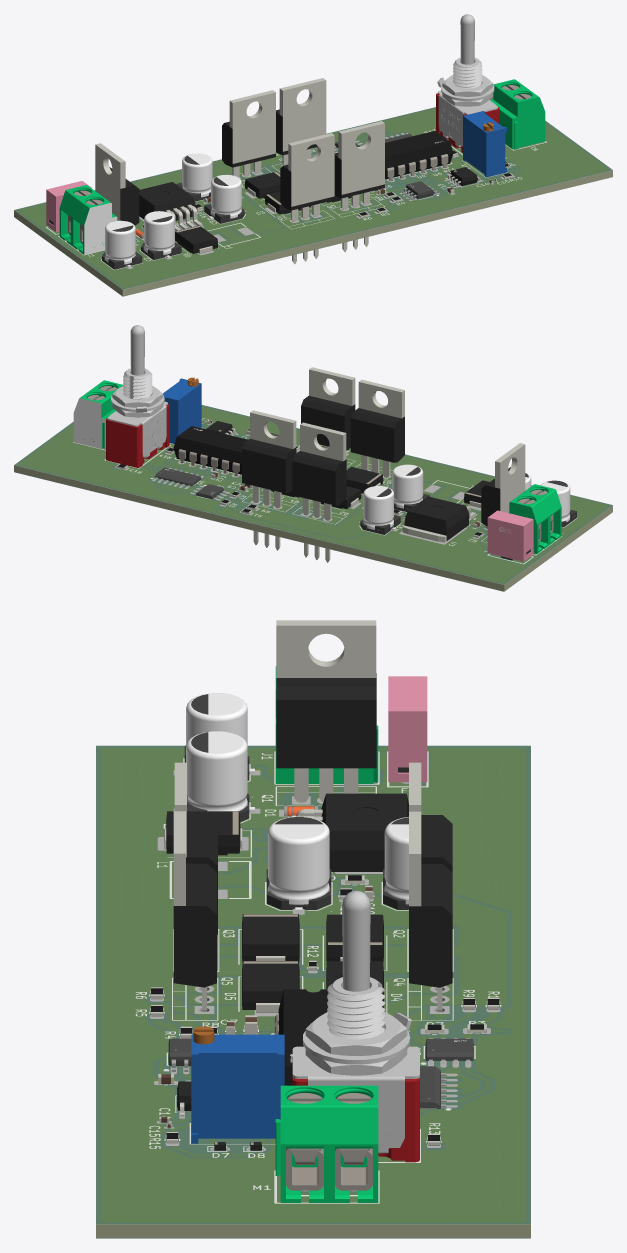
File: RS36512VDCDriver_RevA.glb
3 views of the same model, one above another, from view 1: azimuth 30°, elevation 25°; view 2: azimuth 150°, elevation 25°; view 3: azimuth 270°, elevation 25° (orthographic). The views are drawn at different scales.
Parts seen in each view (by area): view 1: =>[0:1:1:56], =>[0:1:1:9] (×5), =>[0:1:1:52], =>[0:1:1:58], =>[0:1:1:17] (×4), =>[0:1:1:15] (×2), =>[0:1:1:46], =>[0:1:1:42], =>[0:1:1:29], =>[0:1:1:33], =>[0:1:1:11] (×2), =>[0:1:1:55] (+6 smaller); view 2: =>[0:1:1:56], =>[0:1:1:9] (×5), =>[0:1:1:52], =>[0:1:1:58], =>[0:1:1:46], =>[0:1:1:15] (×2), =>[0:1:1:17] (×3), =>[0:1:1:42], =>[0:1:1:33], =>[0:1:1:21], =>[0:1:1:29], =>[0:1:1:55] (+5 smaller); view 3: =>[0:1:1:56], =>[0:1:1:52], =>[0:1:1:9] (×5), =>[0:1:1:58], =>[0:1:1:17] (×4), =>[0:1:1:15] (×2), =>[0:1:1:46], =>[0:1:1:29], =>[0:1:1:11] (×4), =>[0:1:1:33], =>[0:1:1:55], =>[0:1:1:21] (+6 smaller).
Boxes of the visible parts, left/top/right/bottom form: =>[0:1:1:56]: left=14, top=96, right=612, bottom=289; =>[0:1:1:9] (×5): left=95, top=78, right=384, bottom=263; =>[0:1:1:52]: left=18, top=97, right=608, bottom=287; =>[0:1:1:58]: left=14, top=108, right=612, bottom=296; =>[0:1:1:17] (×4): left=102, top=153, right=244, bottom=269; =>[0:1:1:15] (×2): left=59, top=79, right=545, bottom=254; =>[0:1:1:46]: left=436, top=14, right=499, bottom=152; =>[0:1:1:42]: left=385, top=131, right=453, bottom=181; =>[0:1:1:29]: left=463, top=111, right=506, bottom=177; =>[0:1:1:33]: left=139, top=182, right=202, bottom=230; =>[0:1:1:11] (×2): left=175, top=171, right=280, bottom=253; =>[0:1:1:55]: left=46, top=129, right=546, bottom=270; =>[0:1:1:56]: left=14, top=405, right=612, bottom=584; =>[0:1:1:9] (×5): left=242, top=367, right=525, bottom=562; =>[0:1:1:52]: left=18, top=407, right=607, bottom=582; =>[0:1:1:58]: left=14, top=405, right=612, bottom=591; =>[0:1:1:46]: left=106, top=325, right=169, bottom=467; =>[0:1:1:15] (×2): left=73, top=380, right=561, bottom=553; =>[0:1:1:17] (×3): left=360, top=464, right=576, bottom=534; =>[0:1:1:42]: left=173, top=426, right=247, bottom=476; =>[0:1:1:33]: left=402, top=496, right=475, bottom=542; =>[0:1:1:21]: left=487, top=510, right=533, bottom=561; =>[0:1:1:29]: left=163, top=377, right=201, bottom=443; =>[0:1:1:55]: left=73, top=418, right=577, bottom=564; =>[0:1:1:56]: left=96, top=745, right=530, bottom=1224; =>[0:1:1:52]: left=101, top=748, right=525, bottom=1221; =>[0:1:1:9] (×5): left=173, top=620, right=452, bottom=1012; =>[0:1:1:58]: left=96, top=747, right=530, bottom=1237; =>[0:1:1:17] (×4): left=184, top=693, right=408, bottom=912; =>[0:1:1:15] (×2): left=275, top=666, right=378, bottom=1202; =>[0:1:1:46]: left=292, top=890, right=419, bottom=1162; =>[0:1:1:29]: left=191, top=1026, right=284, bottom=1143; =>[0:1:1:11] (×4): left=164, top=811, right=383, bottom=1012; =>[0:1:1:33]: left=296, top=793, right=408, bottom=871; =>[0:1:1:55]: left=135, top=751, right=501, bottom=1203; =>[0:1:1:21]: left=388, top=676, right=427, bottom=782.
Bounding box in the file's own units: 0.1156 × 0.0384 × 0.0445.
